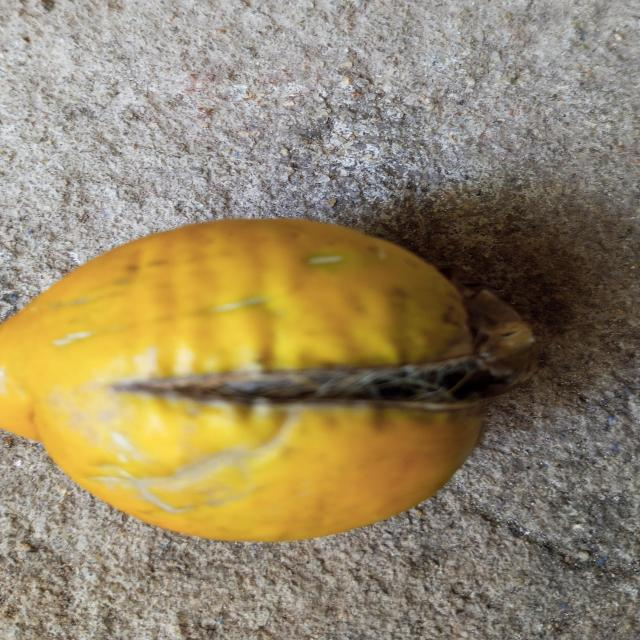damaged: (0, 219, 534, 546)
